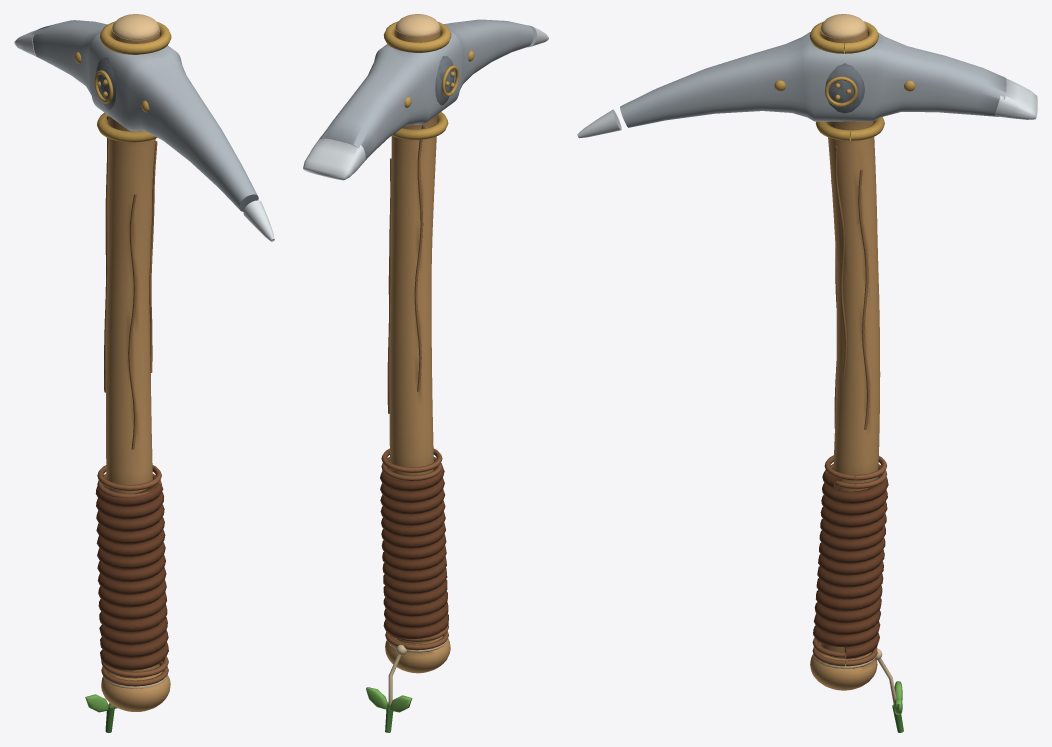
File: pickaxe.glb
The picture shows the model from 3 angles, left to right: view 1: azimuth 30°, elevation 25°; view 2: azimuth 150°, elevation 25°; view 3: azimuth 270°, elevation 25°; orthographic projection. The views are drawn at different scales.
Visible parts, largest first — view 1: pickaxe; view 2: pickaxe; view 3: pickaxe.
Part boxes in pixels (x1,y1,x2,y2): pickaxe: (14,14,274,732); pickaxe: (303,14,548,732); pickaxe: (577,14,1037,732).
Bounding box in the file's own units: 0.0656 × 0.6461 × 0.378.
